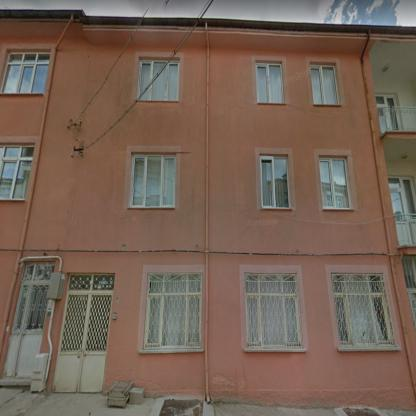door: (53, 292, 112, 392), (2, 281, 49, 377), (390, 192, 410, 245)
window: (331, 274, 396, 348), (144, 272, 202, 348), (244, 272, 302, 346), (129, 152, 175, 209), (1, 51, 50, 94), (0, 144, 34, 199), (388, 177, 415, 246), (259, 154, 291, 209), (139, 62, 179, 102), (318, 158, 350, 208), (137, 59, 166, 98), (310, 65, 338, 105), (256, 64, 283, 102), (375, 94, 400, 134), (67, 273, 115, 290), (22, 262, 54, 280), (402, 257, 415, 289)
